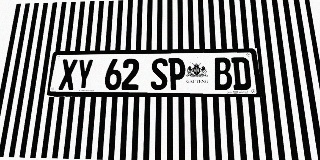2: (121, 58, 139, 90)
6: (104, 59, 122, 90)
B: (213, 57, 233, 90)
D: (231, 57, 252, 90)
P: (168, 58, 186, 90)
S: (150, 58, 168, 90)
X: (58, 59, 77, 90)
Y: (75, 59, 94, 90)
